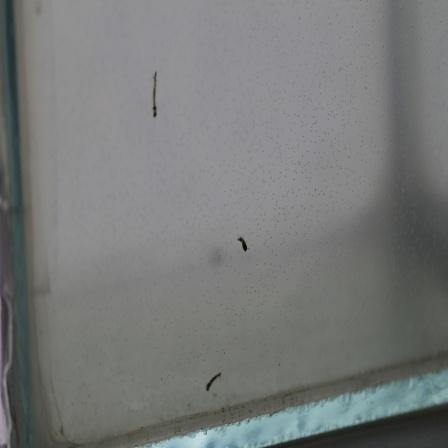Jentik-Nyamuk: (149, 68, 160, 119), (203, 368, 223, 395), (235, 233, 251, 258)
